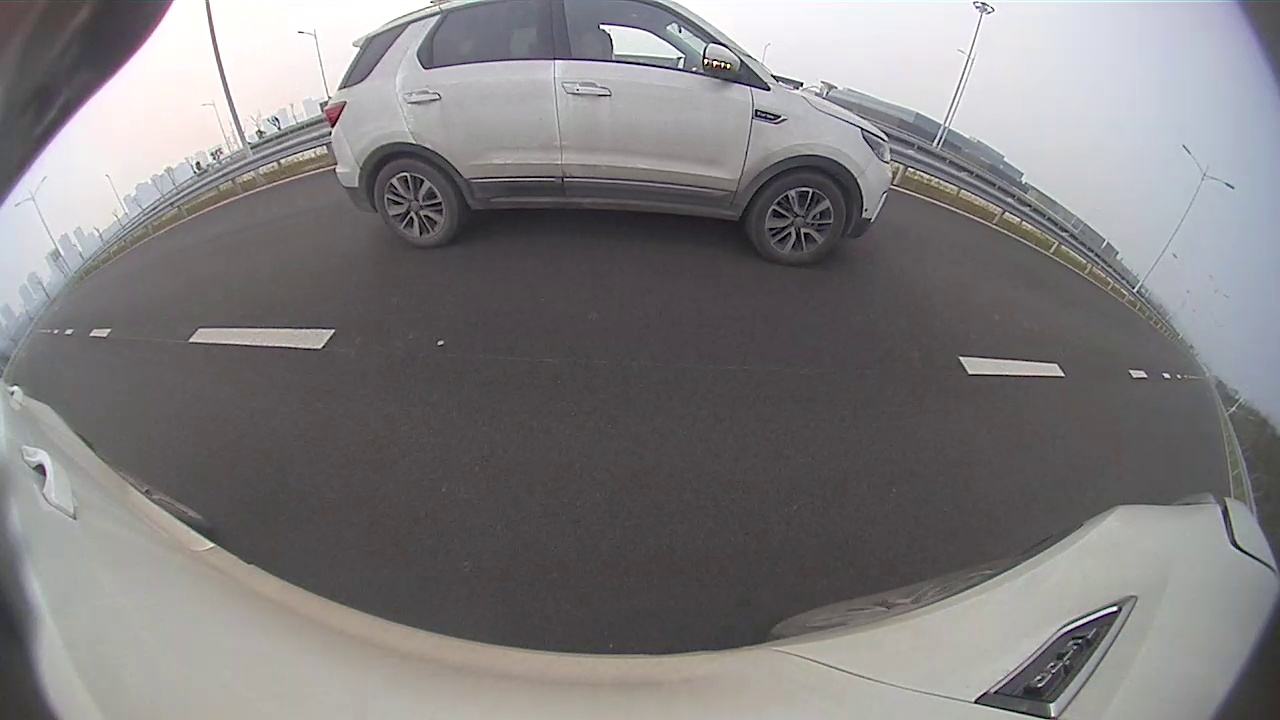car: (324, 1, 892, 266)
front: (750, 170, 848, 267)
rear: (373, 160, 461, 249)
